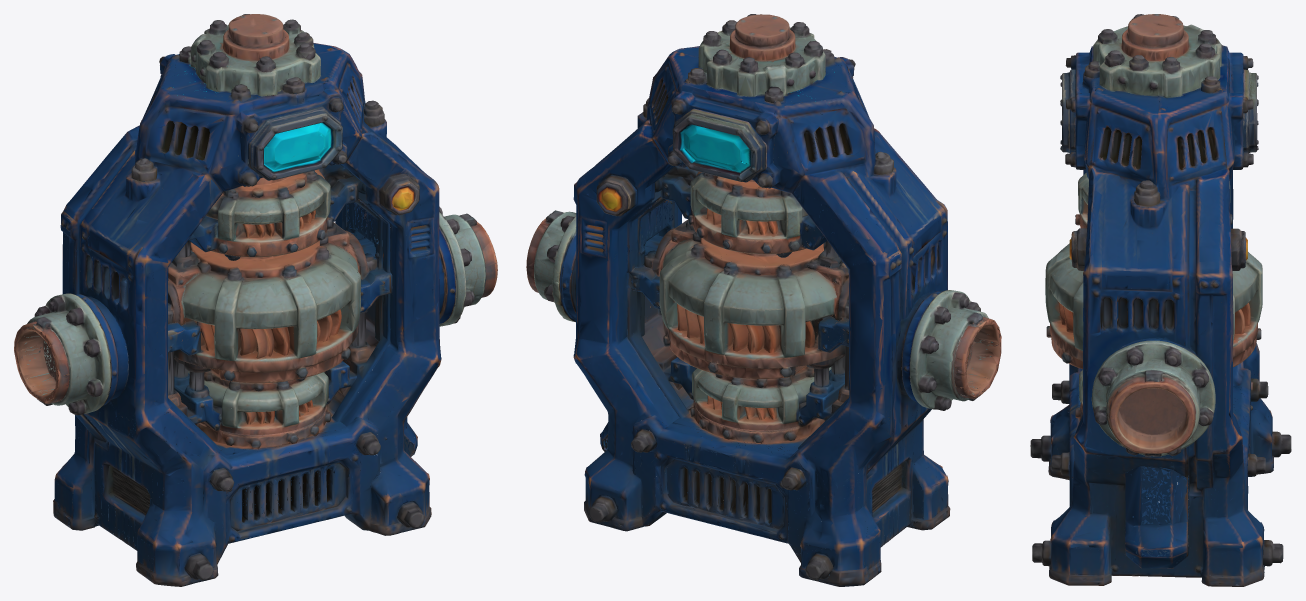
The model's file is PressureGovernor-Unity.glb.
The picture shows the model from 3 angles, left to right: view 1: azimuth 30°, elevation 25°; view 2: azimuth 150°, elevation 25°; view 3: azimuth 270°, elevation 25°; orthographic projection.
Parts seen in each view (by area): view 1: GOVERNOR_VIS; view 2: GOVERNOR_VIS; view 3: GOVERNOR_VIS.
Boxes of the visible parts, x1,y1,x2,y2 form: GOVERNOR_VIS: (14,14,497,586); GOVERNOR_VIS: (526,14,1001,586); GOVERNOR_VIS: (1030,14,1291,586).
Size of the model in its own units: 0.9204 by 0.9787 by 0.4661.
1 material, 1 textured.
